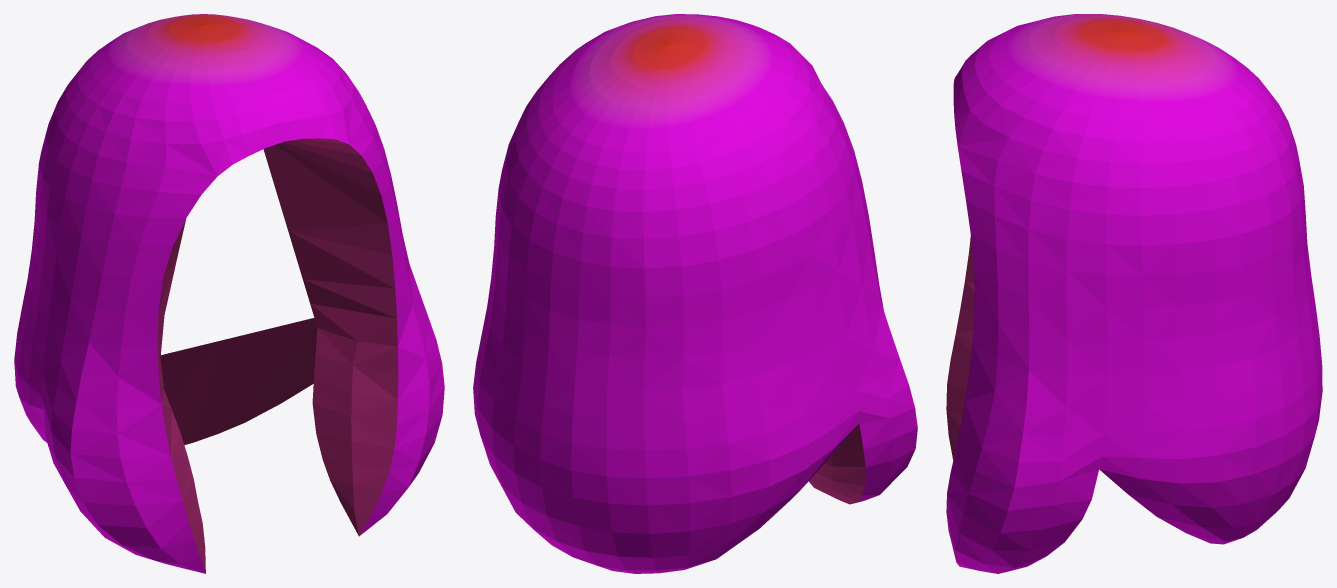
3 views of the same model, side by side, from view 1: azimuth 30°, elevation 25°; view 2: azimuth 150°, elevation 25°; view 3: azimuth 270°, elevation 25° (orthographic). The views are drawn at different scales.
Parts seen in each view (by area): view 1: shape; view 2: shape; view 3: shape.
Part boxes in pixels (x1,y1,x2,y2): shape: (14, 14, 444, 573); shape: (473, 14, 917, 573); shape: (946, 14, 1322, 573).
Bounding box in the file's own units: 70.36 × 85.58 × 58.84.
